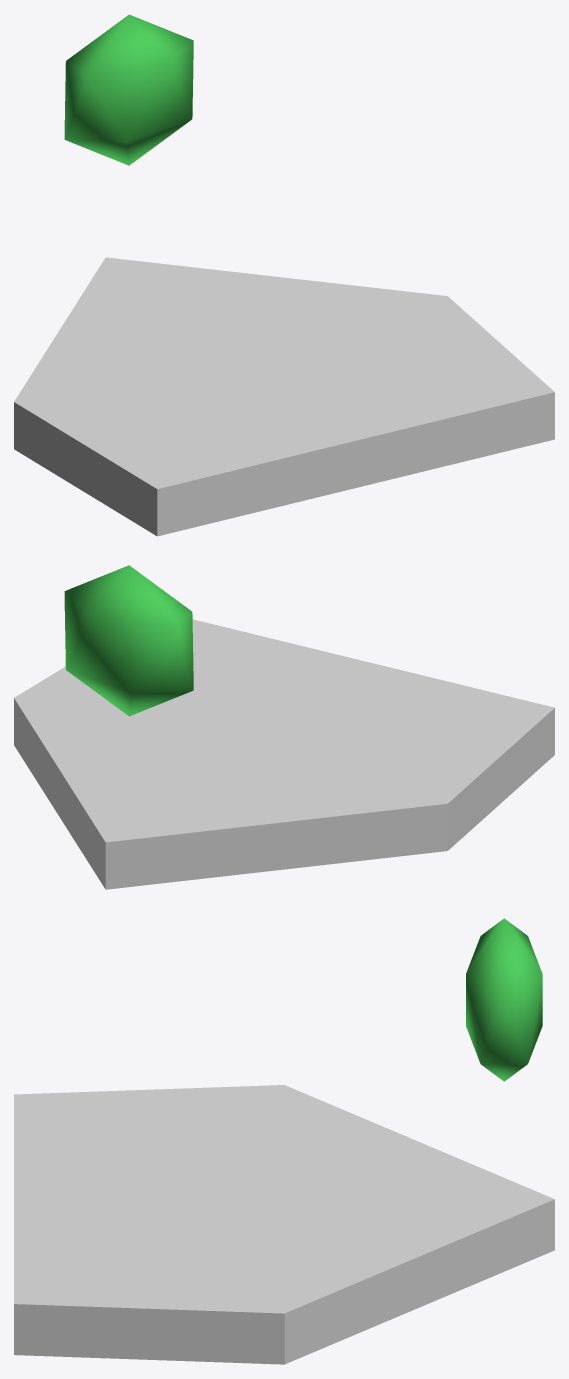
File: ranger_emblem.glb
3 renders of one model, top to bottom at view 1: azimuth 30°, elevation 25°; view 2: azimuth 150°, elevation 25°; view 3: azimuth 270°, elevation 25°, orthographic. The views are drawn at different scales.
Parts seen in each view (by area): view 1: ranger_emblem_v0; view 2: ranger_emblem_v0; view 3: ranger_emblem_v0.
Part boxes in pixels (box(x1,y1,x2,y2)): ranger_emblem_v0: box(14, 14, 554, 536); ranger_emblem_v0: box(14, 565, 554, 889); ranger_emblem_v0: box(14, 918, 554, 1364).
Bounding box in the file's own units: 0.24 × 0.1625 × 0.24.
